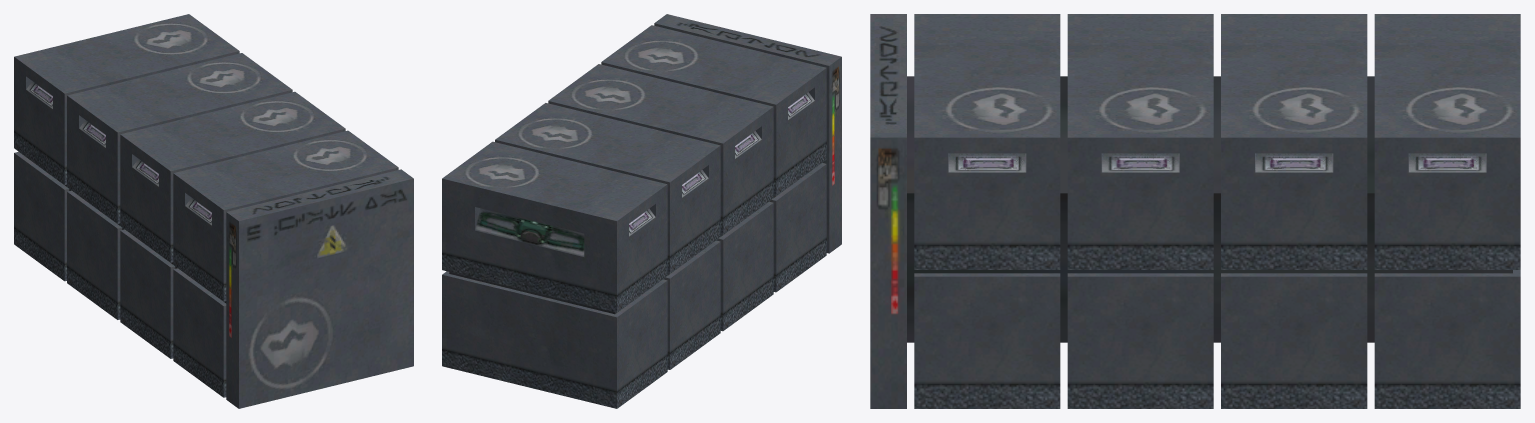
File: con_gen_inorganic_minerals_sml_l0.fbx
The picture shows the model from 3 angles, left to right: view 1: azimuth 30°, elevation 25°; view 2: azimuth 150°, elevation 25°; view 3: azimuth 270°, elevation 25°; orthographic projection. The views are drawn at different scales.
Visible parts, largest first — view 1: mesh_node; view 2: mesh_node; view 3: mesh_node.
Part boxes in pixels (x1,y1,x2,y2): mesh_node: [14, 14, 413, 408]; mesh_node: [442, 14, 841, 408]; mesh_node: [870, 14, 1520, 408].
Size of the model in its own units: 0.5285 by 0.5418 by 1.18.
